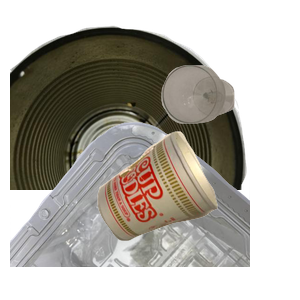glass: (159, 63, 300, 179)
metal: (10, 23, 250, 203)
plastic: (10, 120, 250, 300)
trash: (95, 129, 300, 300)
